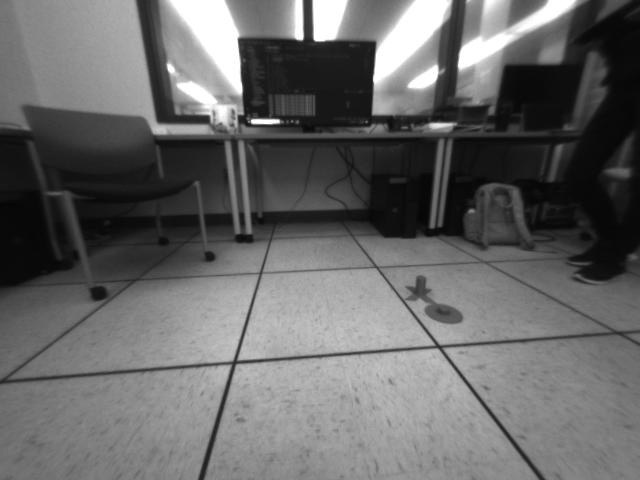X: (404, 275, 438, 304)
